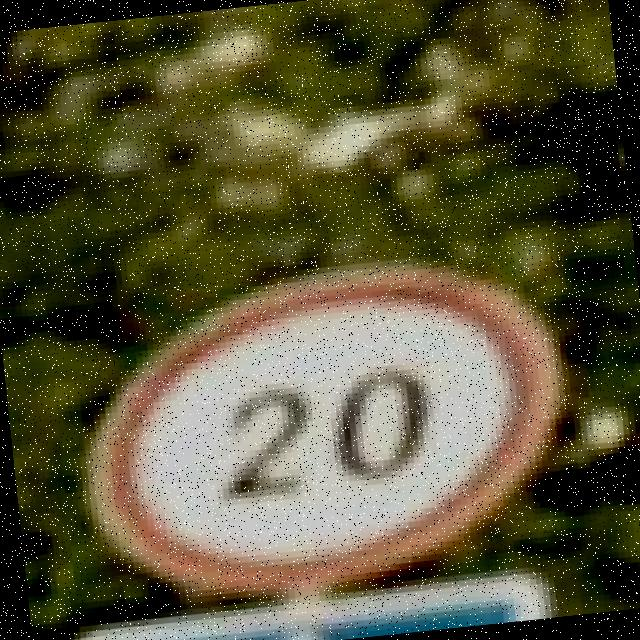Ograniczenie predkosci do 20: (68, 243, 582, 612)
